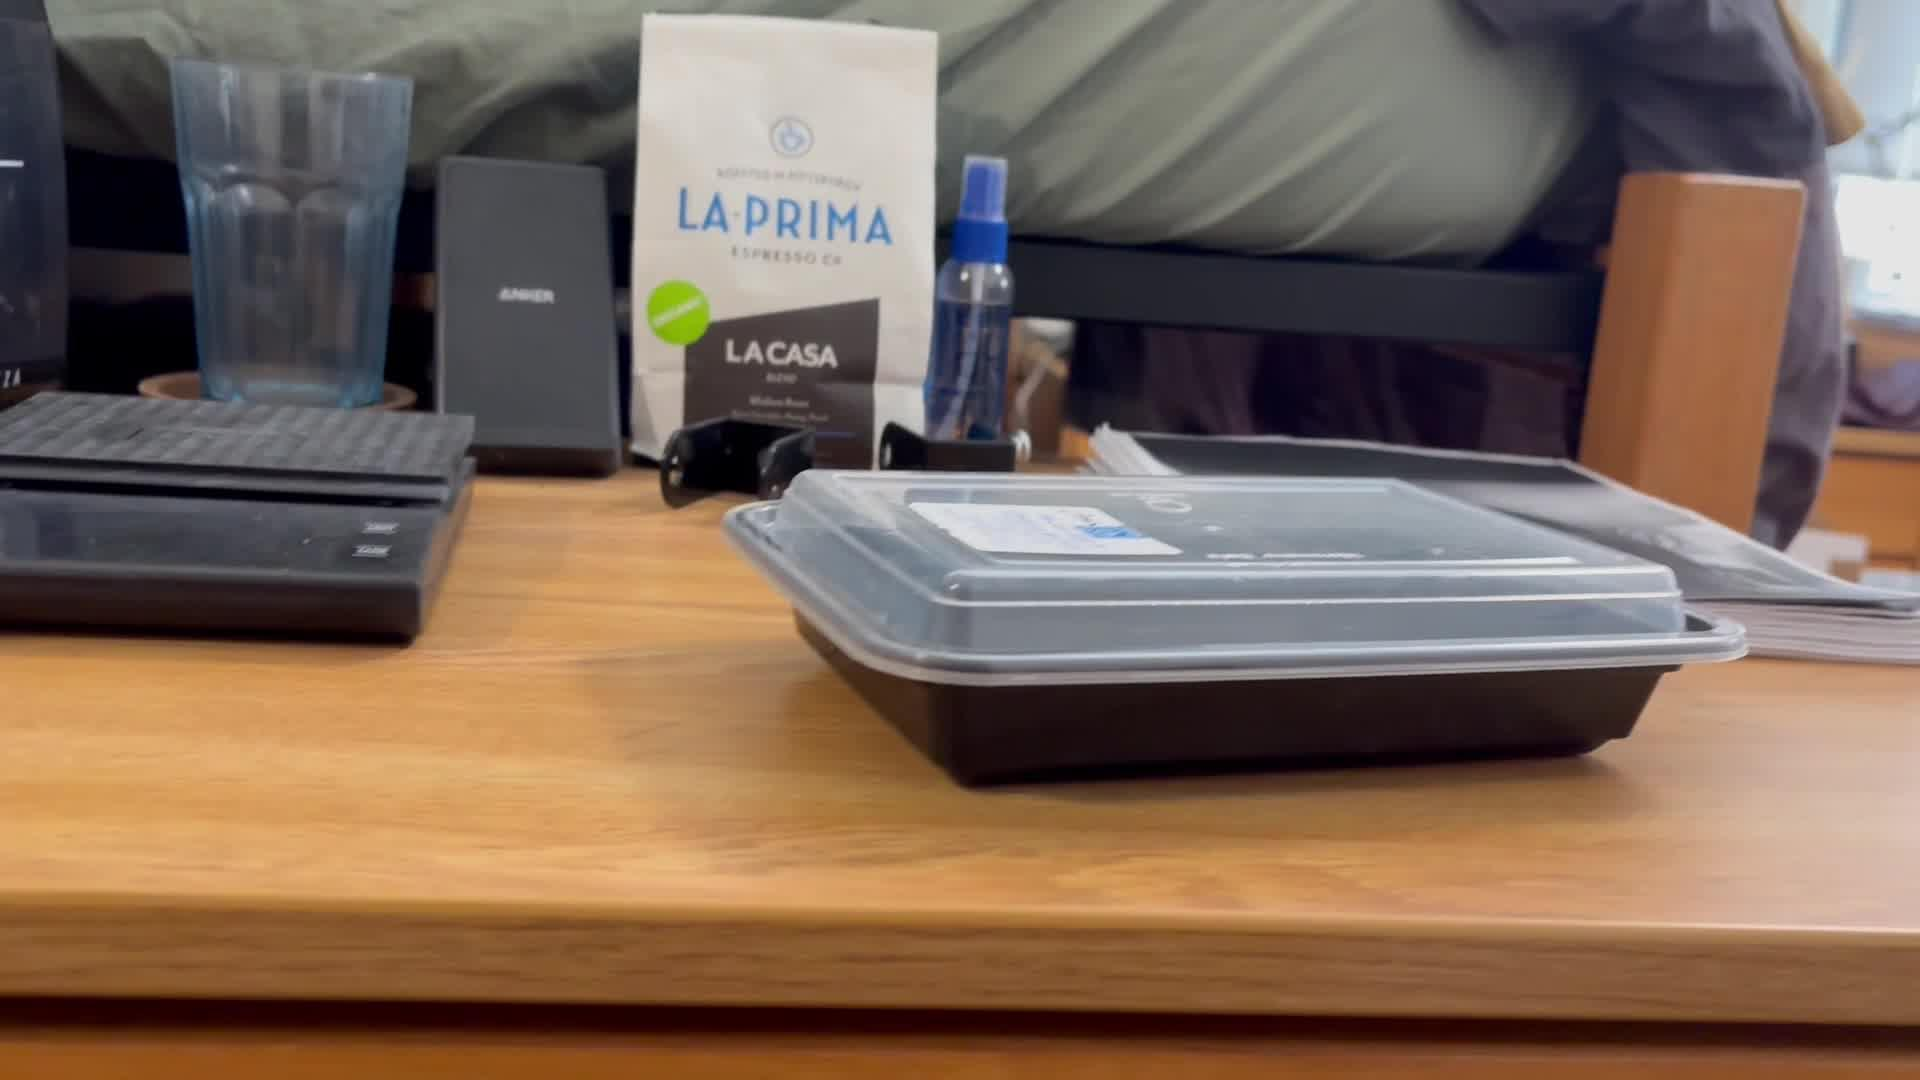lp_cup_lids: (716, 454, 1758, 789)
